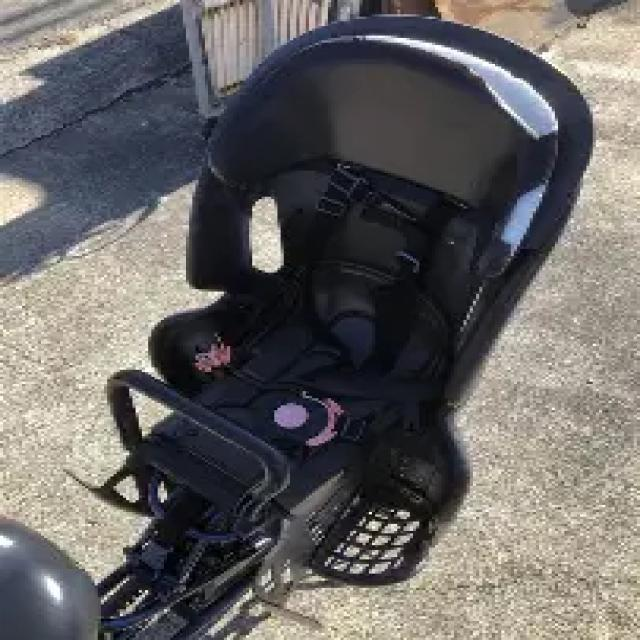childseat: (80, 19, 596, 574)
